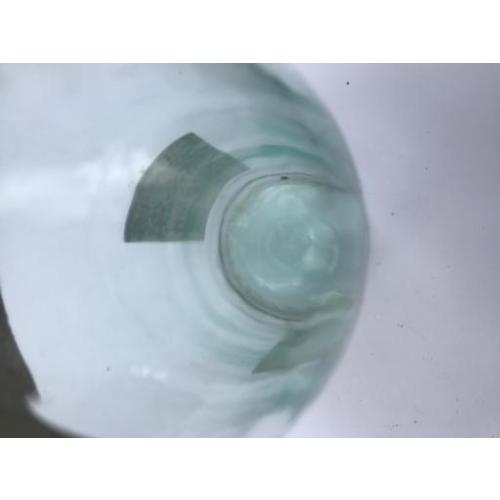glass: (0, 60, 362, 436)
